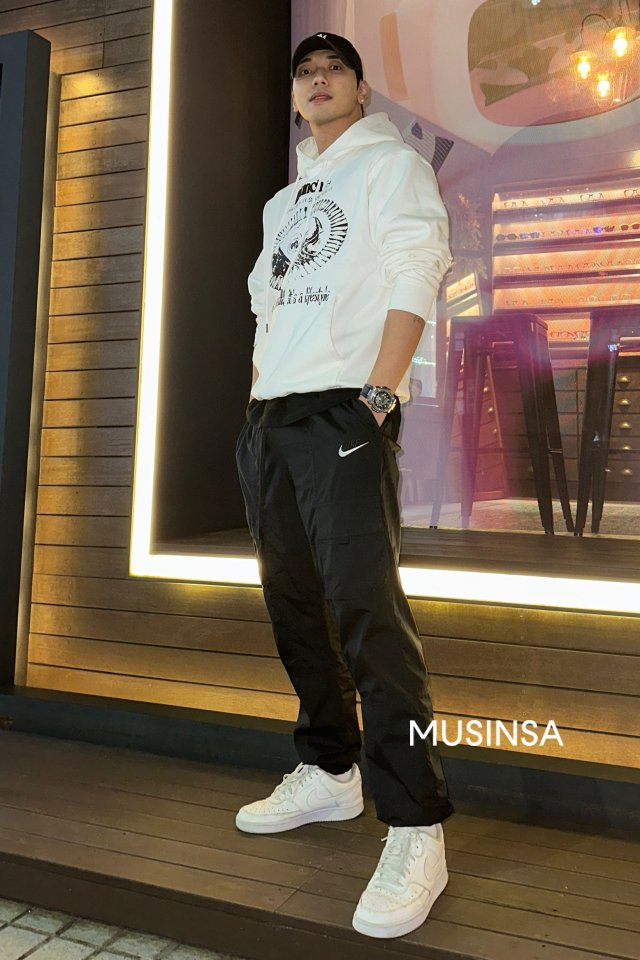Accessories: (357, 382, 401, 416)
Cap: (281, 30, 366, 73)
Hoodie: (243, 111, 448, 394)
Pants: (231, 396, 461, 836)
Shoes: (216, 753, 460, 938)
